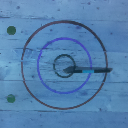Axe Tip: (65, 69, 77, 72)
